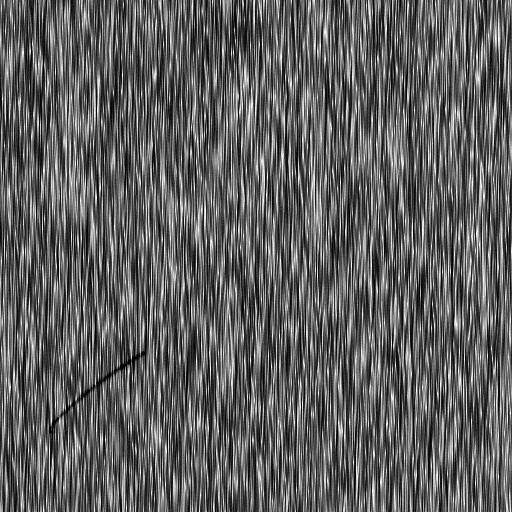DefectTypeC: (48, 350, 146, 433)
